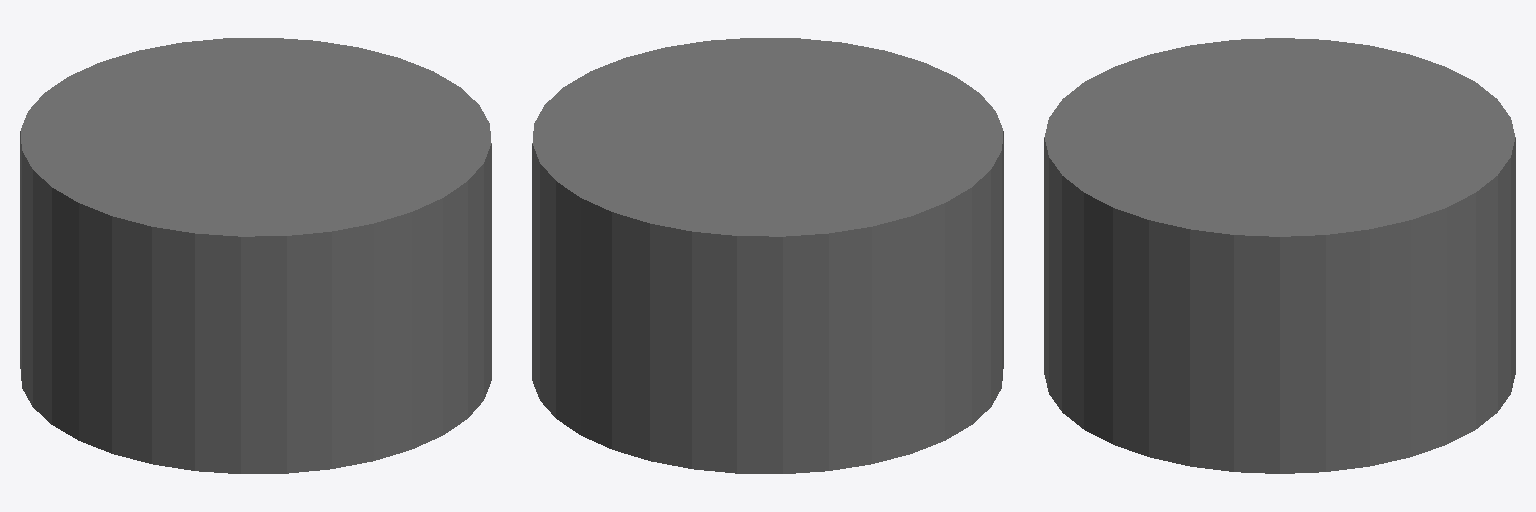
robot.urdf — cylinder_workpiece:
<?xml version="1.0"?>
<robot name="cylinder_workpiece">

  <link name="base_link">
    <visual>
      <origin xyz="0 0 0" rpy="0 0 0"/>
      <geometry>
        <cylinder radius="0.225" length="0.250"/>
      </geometry>
      <material name="steel">
        <color rgba="0.5 0.5 0.5 1.0"/>
      </material>
    </visual>
    <collision>
      <origin xyz="0 0 0" rpy="0 0 0"/>
      <geometry>
        <cylinder radius="0.225" length="0.250"/>
      </geometry>
    </collision>
    <inertial>
      <mass value="8.0"/>
      <origin xyz="0 0 0" rpy="0 0 0"/>
      <inertia ixx="0.1429" ixy="0.0" ixz="0.0"
               iyy="0.1429" iyz="0.0"
               izz="0.2025"/>
    </inertial>
  </link>

</robot>

--- Render facts (derived) ---
Views: 3 orthographic renders of the robot side by side, from view 1: azimuth 30°, elevation 25°; view 2: azimuth 150°, elevation 25°; view 3: azimuth 270°, elevation 25°.
Model cylinder_workpiece with 1 links and 0 joints (none), rooted at base_link, posed every joint at zero.
Links seen in each view (by area): view 1: base_link; view 2: base_link; view 3: base_link.
Link boxes in pixels (box(x1,y1,x2,y2)): base_link: box(20, 38, 491, 473); base_link: box(532, 38, 1003, 473); base_link: box(1044, 38, 1515, 473).
Bounding box of the posed robot: 0.45 × 0.45 × 0.25 m (x, y, z).
Geometry: primitives only (box / cylinder / sphere), no mesh files.
